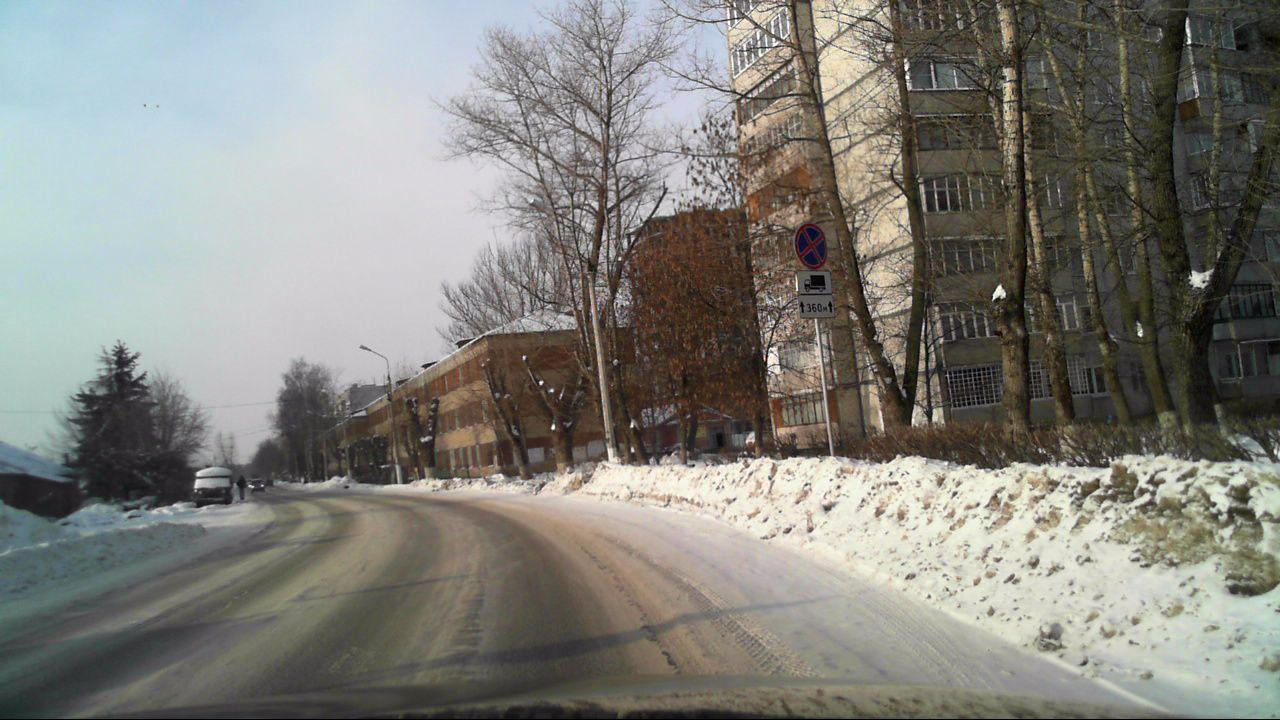3_27: (794, 222, 827, 269)
8_2_1: (797, 295, 836, 318)
8_4_1: (795, 272, 831, 294)
